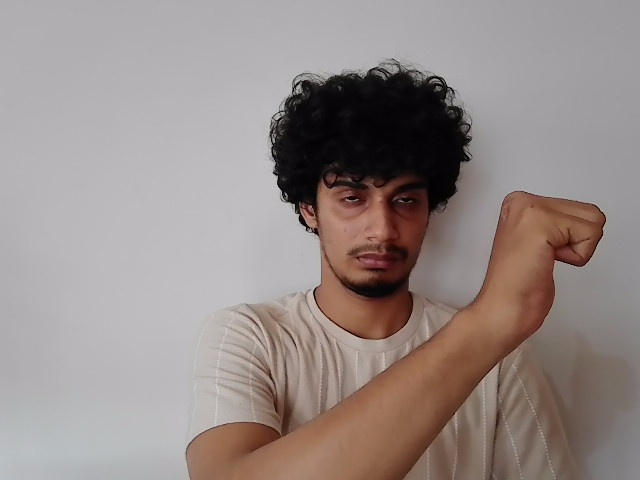how: (484, 188, 606, 336)
